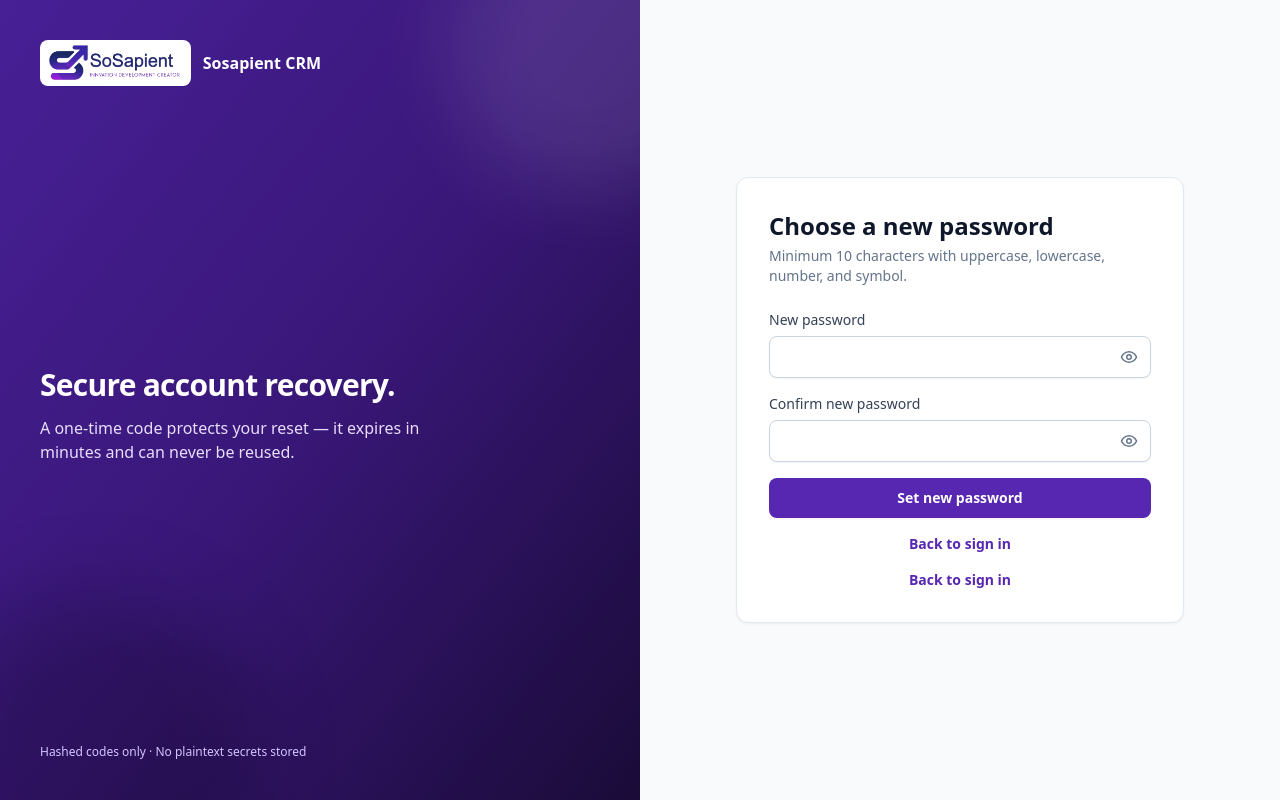
it: ResetPasswordPage › submits token + matching passwords, then shows success
This screenshot has width=1280, height=800.
Type "N3w!StrongPass9" into the password field labelled "New password" at [960, 357], box x1=769 y1=336 x2=1151 y2=378
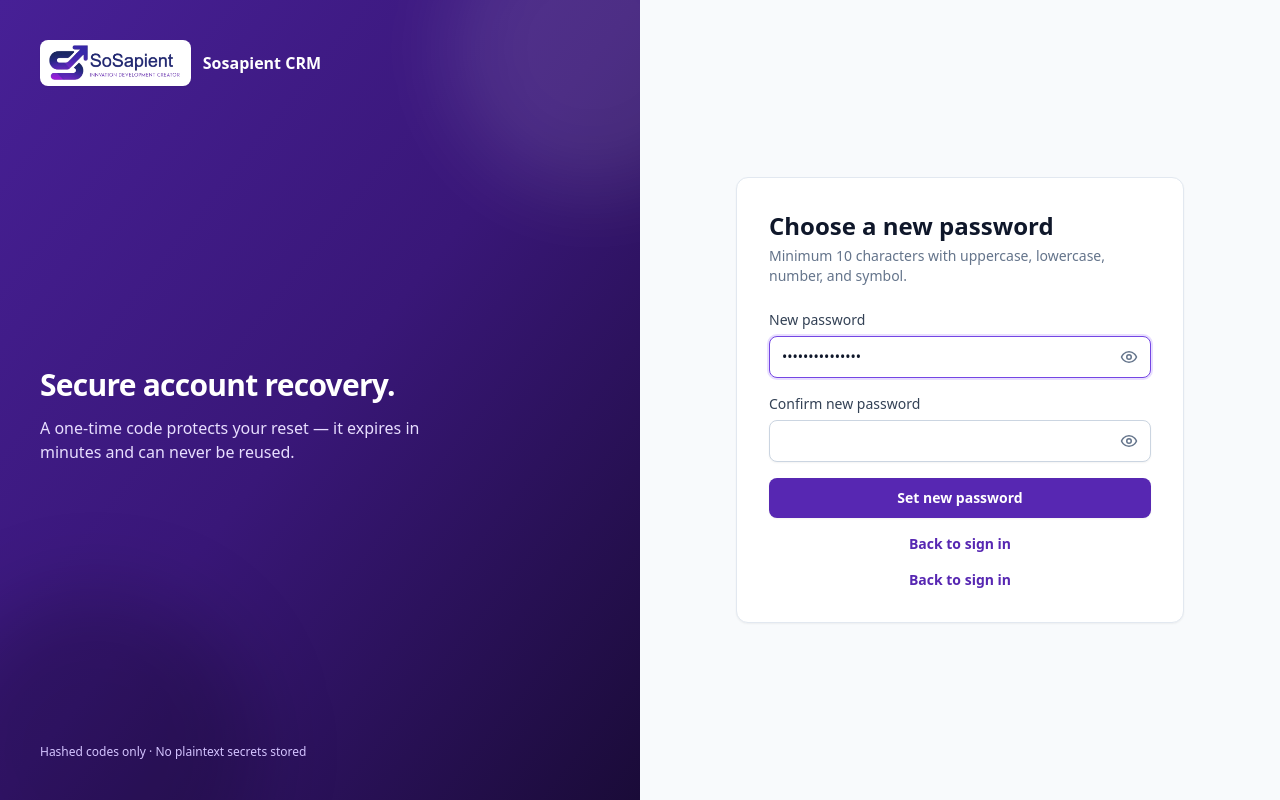
Type "N3w!StrongPass9" into the password field labelled "Confirm new password" at [960, 441], box x1=769 y1=420 x2=1151 y2=462
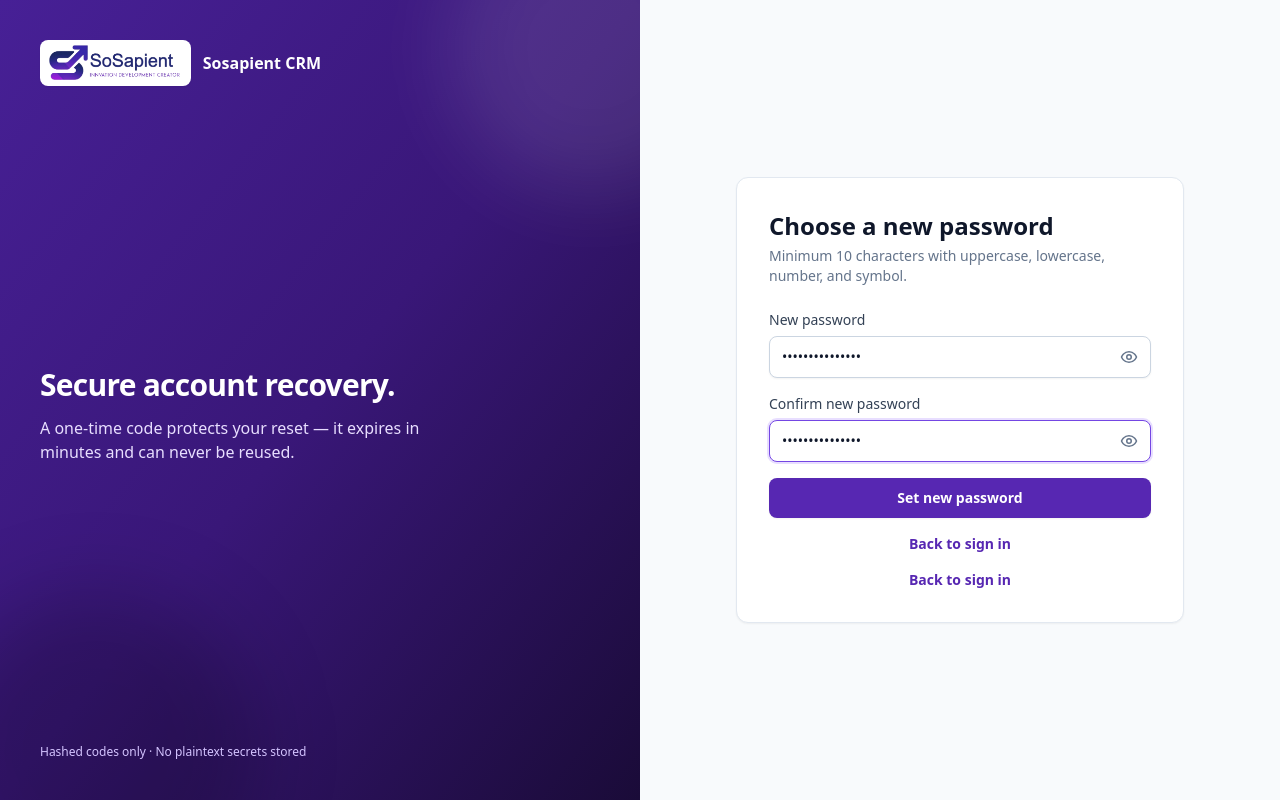
Click the button "Set new password" at [960, 498], box x1=769 y1=478 x2=1151 y2=518
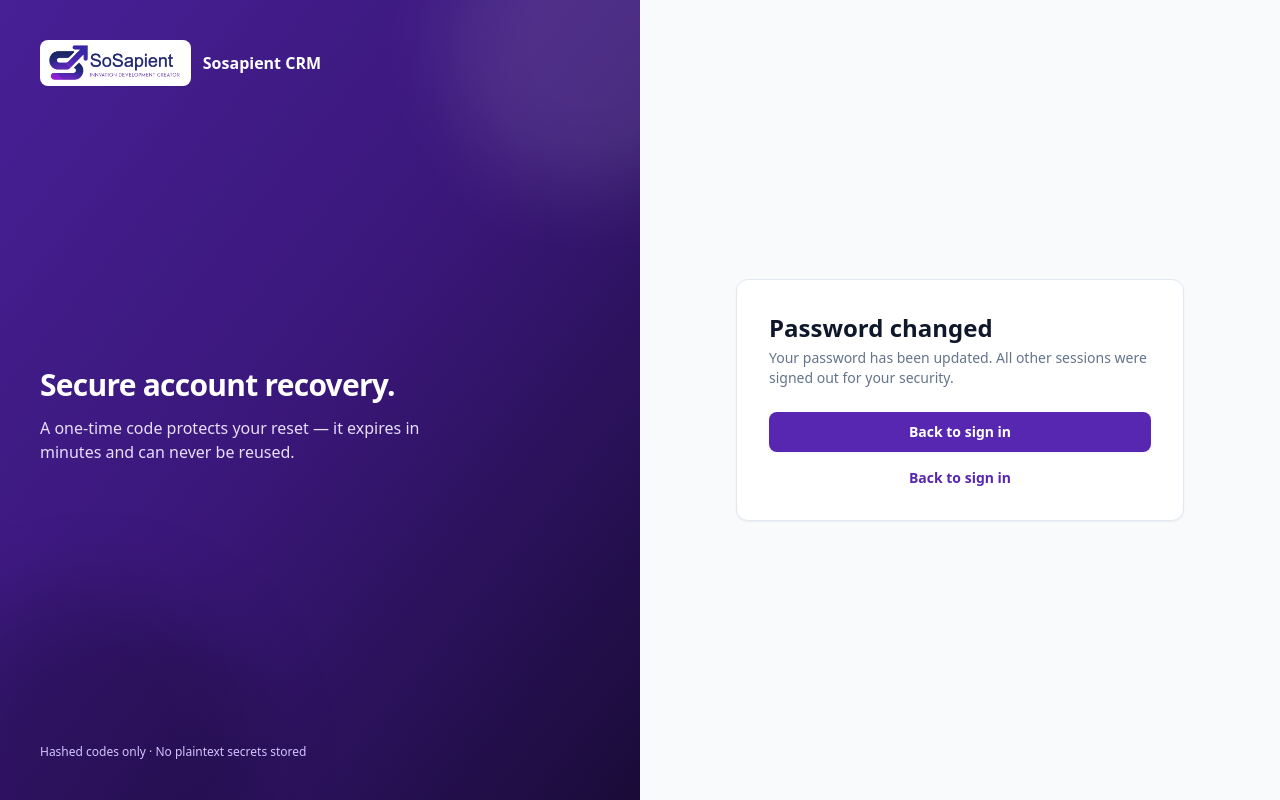
Expected: the text "password has been updated" is shown, x1=769 y1=348 x2=1147 y2=387
